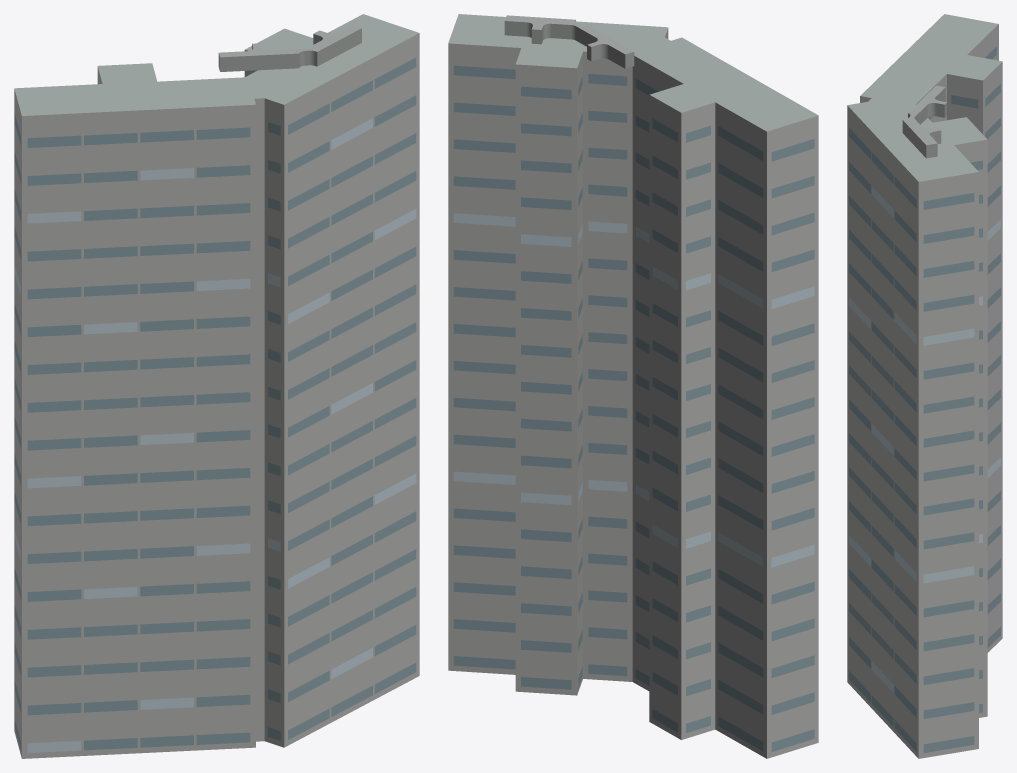
The model's file is fallback-seocho-grand-xi-106.glb.
3 views of the same model, side by side, from view 1: azimuth 30°, elevation 25°; view 2: azimuth 150°, elevation 25°; view 3: azimuth 270°, elevation 25° (orthographic). The views are drawn at different scales.
Visible parts, largest first — view 1: fallback-seocho-grand-xi-106; view 2: fallback-seocho-grand-xi-106; view 3: fallback-seocho-grand-xi-106.
Part boxes in pixels (left/top/right/bottom): fallback-seocho-grand-xi-106: left=14, top=14, right=419, bottom=758; fallback-seocho-grand-xi-106: left=448, top=14, right=818, bottom=758; fallback-seocho-grand-xi-106: left=847, top=14, right=1002, bottom=758.
Bounding box in the file's own units: 65.28 × 107 × 25.54.
